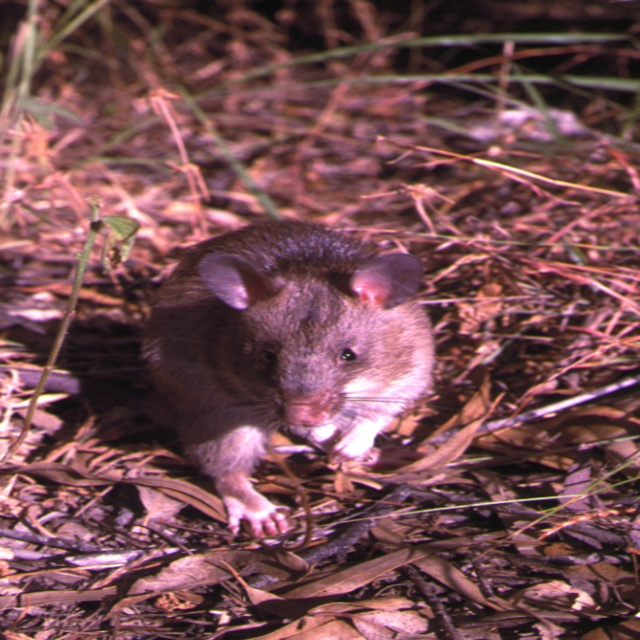Hamster: (137, 212, 440, 539)
